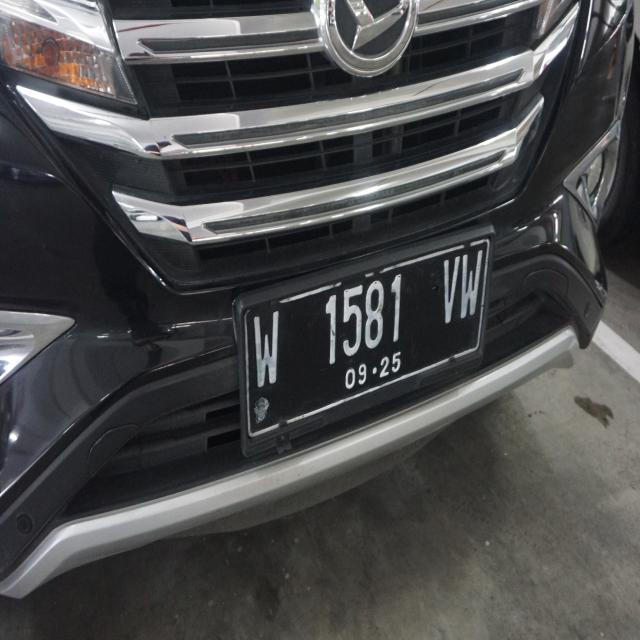1: (317, 292, 343, 369), (385, 267, 408, 353)
5: (340, 284, 366, 363)
8: (361, 276, 384, 353)
V: (437, 250, 461, 342)
W: (244, 308, 287, 404), (458, 246, 486, 330)
